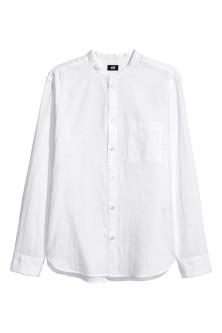teeshirt: (8, 50, 212, 285)
